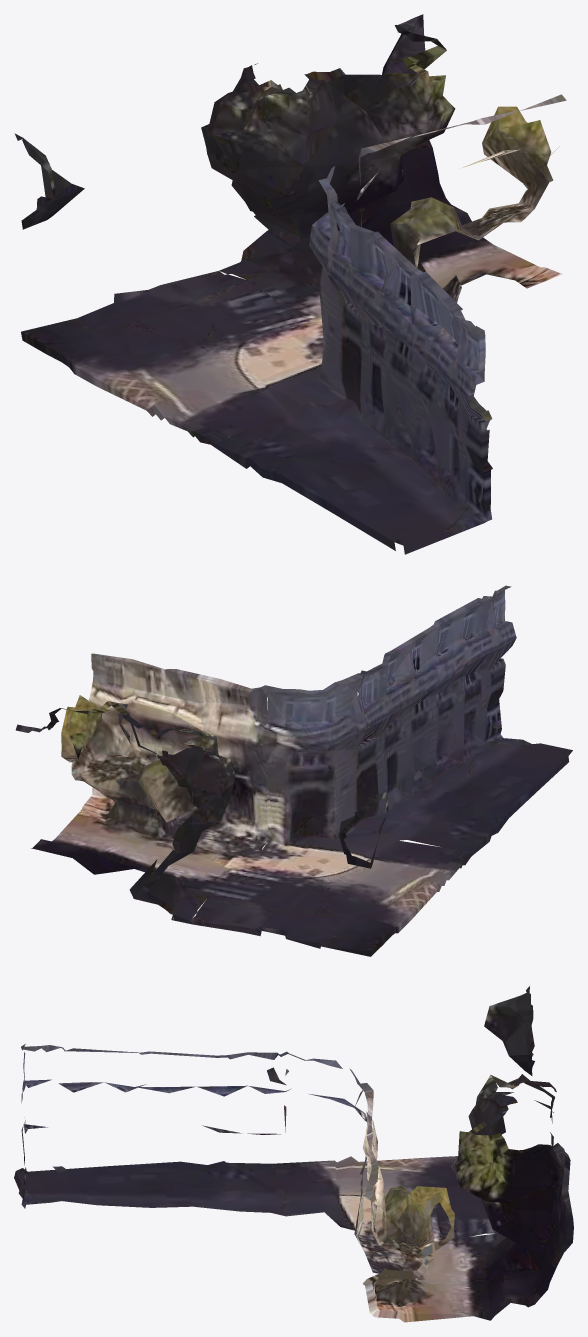
The picture shows the model from 3 angles, top to bottom: view 1: azimuth 30°, elevation 25°; view 2: azimuth 150°, elevation 25°; view 3: azimuth 270°, elevation 25°; orthographic projection. The views are drawn at different scales.
Visible parts, largest first — view 1: Mesh_0; view 2: Mesh_0; view 3: Mesh_0.
Boxes of the visible parts, box(x1,y1,x2,y2) form: Mesh_0: box(14, 14, 566, 554); Mesh_0: box(15, 585, 572, 956); Mesh_0: box(14, 986, 573, 1322).
Size of the model in its own units: 31.23 by 14.17 by 41.24.
Materials: 1 (1 with a texture image).
